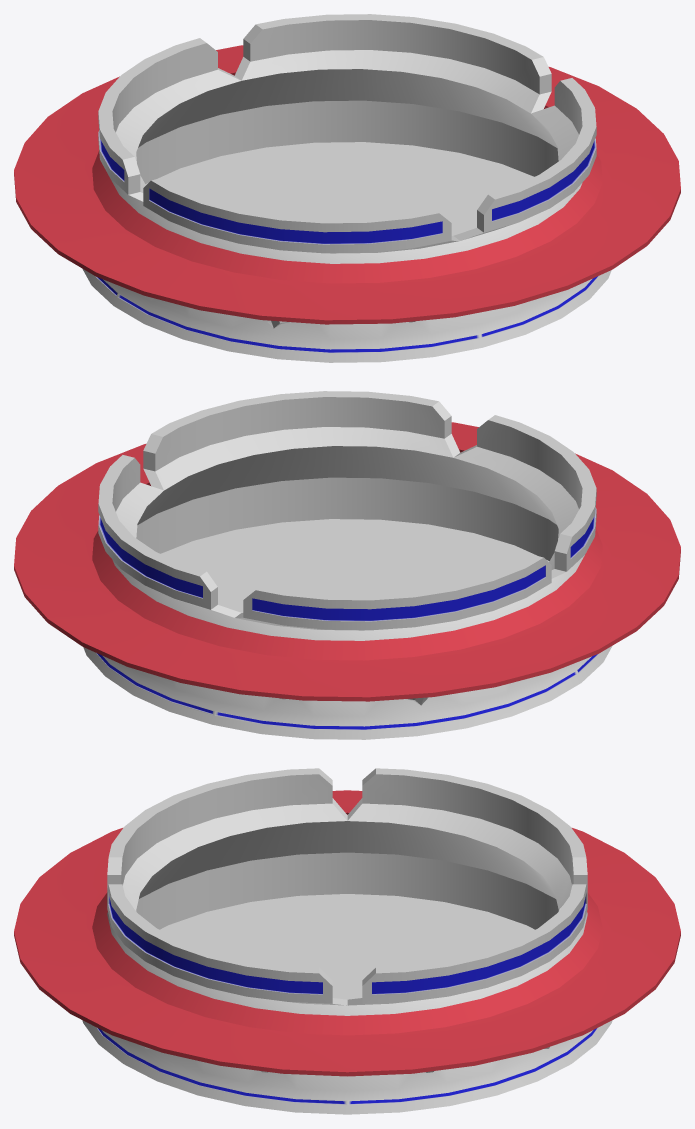
Rendered from PotTree.fbx.
3 renders of one model, top to bottom at view 1: azimuth 30°, elevation 25°; view 2: azimuth 150°, elevation 25°; view 3: azimuth 270°, elevation 25°, orthographic.
Parts seen in each view (by area): view 1: PotTree_Hight.001; view 2: PotTree_Hight.001; view 3: PotTree_Hight.001.
Boxes of the visible parts, x1,y1,x2,y2 form: PotTree_Hight.001: (14,14,680,362); PotTree_Hight.001: (14,391,680,739); PotTree_Hight.001: (14,768,680,1114).
Bounding box in the file's own units: 577 × 124 × 577.
